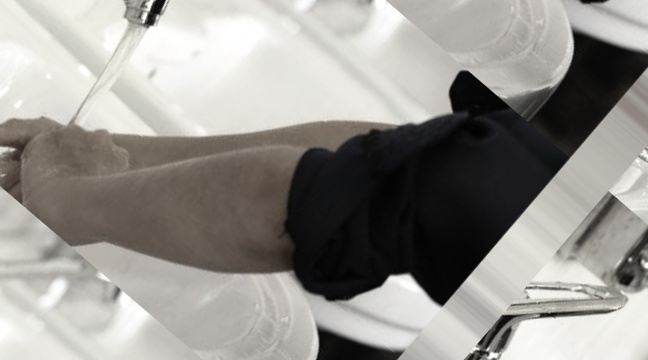washing hand: (0, 0, 333, 302)
